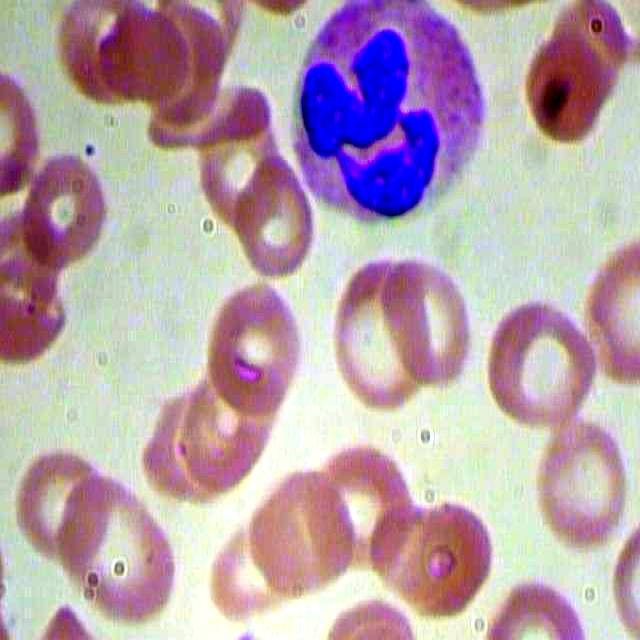RBC: (57, 467, 177, 620), (326, 252, 429, 423), (484, 284, 601, 433), (244, 465, 369, 599), (201, 275, 310, 421), (376, 255, 476, 392), (529, 419, 631, 548), (11, 432, 103, 563), (22, 140, 114, 268), (231, 156, 319, 275), (519, 30, 608, 142)
WBC: (277, 2, 500, 225)
